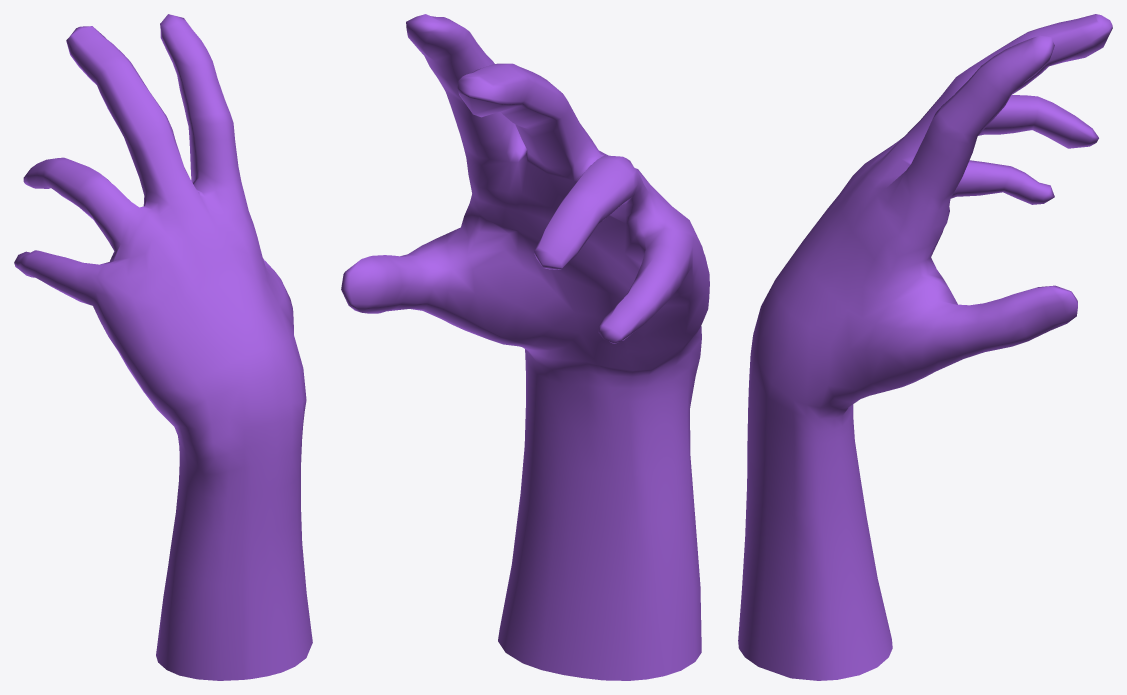
The model's file is handsimple.gltf.
3 renders of one model, left to right at view 1: azimuth 30°, elevation 25°; view 2: azimuth 150°, elevation 25°; view 3: azimuth 270°, elevation 25°, orthographic. The views are drawn at different scales.
Visible parts, largest first — view 1: Default; view 2: Default; view 3: Default.
Boxes of the visible parts, x1,y1,x2,y2 form: Default: (14, 14, 312, 680); Default: (341, 14, 709, 680); Default: (738, 14, 1112, 680).
Bounding box in the file's own units: 3.28 × 7.75 × 4.2.
